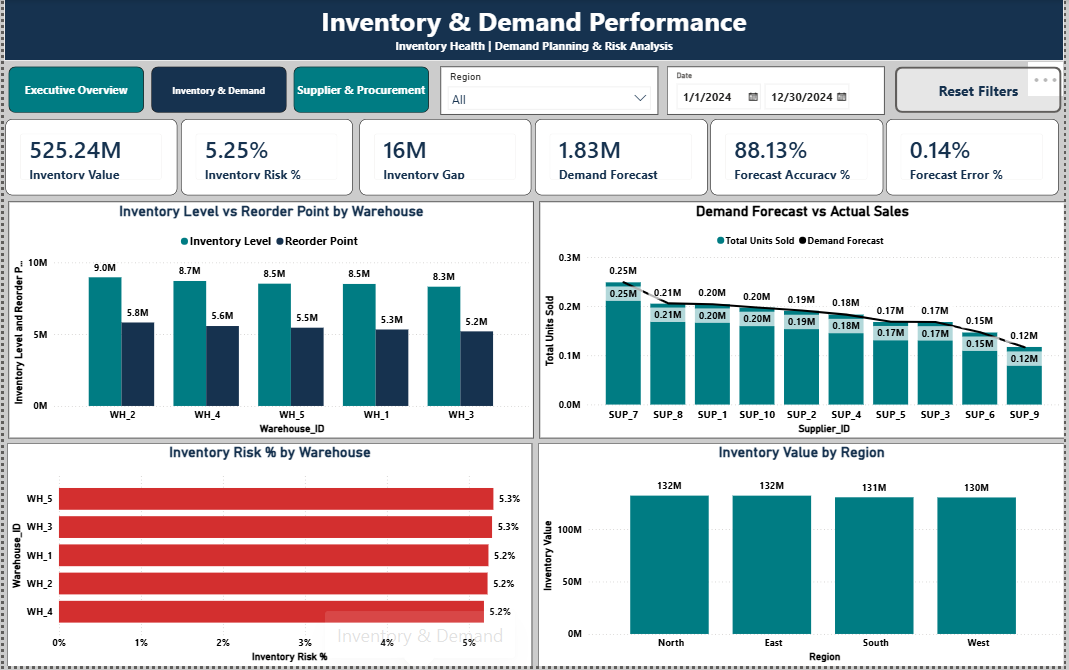

What the dashboard file says about the page in this screenshot:
{"tool":"powerbi","page":{"name":"Inventory & Demand","canvas":[1510,950],"ordinal":1},"visuals":[{"type":"textbox","box":[0,0,1510,87.6],"z":0},{"type":"lineClusteredColumnComboChart","title":"Demand Forecast vs Actual Sales","fields":{"Category":["Dim_Supplier.Supplier_ID"],"Y":["Measures Table.Total Units Sold"],"Y2":["Measures Table.Demand Forecast"]},"box":[762.7,288.4,747.8,337.6],"z":1000},{"type":"clusteredColumnChart","title":"Inventory Level vs Reorder Point by Warehouse","fields":{"Category":["Dim_Warehouse.Warehouse_ID"],"Y":["Measures Table.Inventory Level","Measures Table.Reorder Point"]},"box":[6.4,288.4,747.8,337.6],"z":2000},{"type":"slicer","fields":{"Values":["Dim_Region.Region"]},"box":[621.7,96.1,309.8,68.4],"z":3000},{"type":"slicer","fields":{"Values":["Dim_Date.Date"]},"box":[944.3,96.1,309.8,68.4],"z":4000},{"type":"clusteredBarChart","title":"Inventory Risk % by Warehouse","fields":{"Category":["Dim_Warehouse.Warehouse_ID"],"Y":["Measures Table.Inventory Risk %"]},"box":[4.3,632.4,747.8,318.3],"z":5000},{"type":"clusteredColumnChart","title":"Inventory Value by Region","fields":{"Category":["Dim_Region.Region"],"Y":["Measures Table.Inventory Value"]},"box":[760.6,632.4,749.9,318.3],"z":6000},{"type":"cardVisual","fields":{"Data":["Measures Table.Inventory Value"]},"box":[1.3,170.4,244.7,109],"z":7000},{"type":"cardVisual","fields":{"Data":["Measures Table.Inventory Risk %"]},"box":[252.3,170.1,244.7,109],"z":8000},{"type":"cardVisual","fields":{"Data":["Measures Table.Forecast Accuracy %"]},"box":[1006.3,170.9,245.7,109],"z":9000},{"type":"cardVisual","fields":{"Data":["Measures Table.Inventory GAP"]},"box":[506.3,170.9,244.7,109],"z":10000},{"type":"cardVisual","fields":{"Data":["Measures Table.Demand Forecast"]},"box":[756.3,170.9,245.7,109],"z":11000},{"type":"cardVisual","fields":{"Data":["Measures Table.Forecast Error %"]},"box":[1256.3,170.9,245.7,109],"z":12000},{"type":"pageNavigator","box":[6.4,96.1,600.4,66.2],"z":13000},{"type":"actionButton","box":[1269.1,96.1,237.1,66.2],"z":14000}]}

Visuals, with their boxes in screenshot pixels (x1, y1, x2, y2), scaled from the page's 1510x950 canvas onto the 1069x670 screenshot:
textbox: (left=0, top=0, right=1068, bottom=62)
"Demand Forecast vs Actual Sales" lineClusteredColumnComboChart: (left=540, top=203, right=1068, bottom=441)
"Inventory Level vs Reorder Point by Warehouse" clusteredColumnChart: (left=5, top=203, right=534, bottom=441)
slicer - Dim_Region.Region: (left=440, top=68, right=659, bottom=116)
slicer - Dim_Date.Date: (left=669, top=68, right=888, bottom=116)
"Inventory Risk % by Warehouse" clusteredBarChart: (left=3, top=446, right=532, bottom=669)
"Inventory Value by Region" clusteredColumnChart: (left=538, top=446, right=1068, bottom=669)
cardVisual - Measures Table.Inventory Value: (left=1, top=120, right=174, bottom=197)
cardVisual - Measures Table.Inventory Risk %: (left=179, top=120, right=352, bottom=197)
cardVisual - Measures Table.Forecast Accuracy %: (left=712, top=121, right=886, bottom=197)
cardVisual - Measures Table.Inventory GAP: (left=358, top=121, right=532, bottom=197)
cardVisual - Measures Table.Demand Forecast: (left=535, top=121, right=709, bottom=197)
cardVisual - Measures Table.Forecast Error %: (left=889, top=121, right=1063, bottom=197)
pageNavigator: (left=5, top=68, right=430, bottom=114)
actionButton: (left=898, top=68, right=1066, bottom=114)
